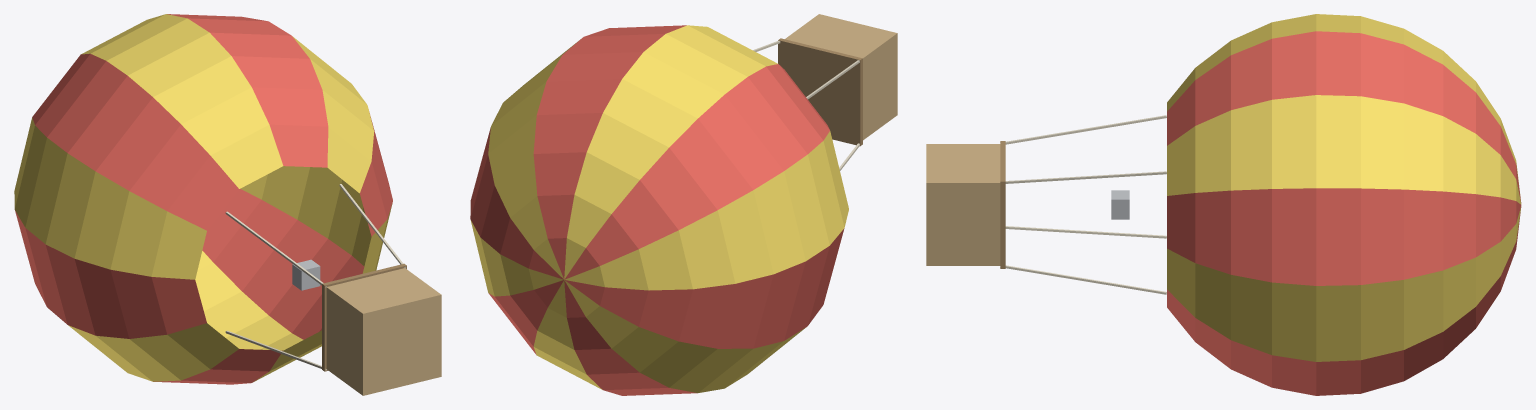
Rendered from balloon_held.gltf.
The picture shows the model from 3 angles, left to right: view 1: azimuth 30°, elevation 25°; view 2: azimuth 150°, elevation 25°; view 3: azimuth 270°, elevation 25°; orthographic projection.
Parts seen in each view (by area): view 1: balloon_balloon_held; view 2: balloon_balloon_held; view 3: balloon_balloon_held.
Part boxes in pixels (left/top/right/bottom): balloon_balloon_held: left=14, top=14, right=441, bottom=395; balloon_balloon_held: left=470, top=14, right=897, bottom=395; balloon_balloon_held: left=926, top=14, right=1521, bottom=395.
Bounding box in the file's own units: 0.1418 × 0.1418 × 0.22.
